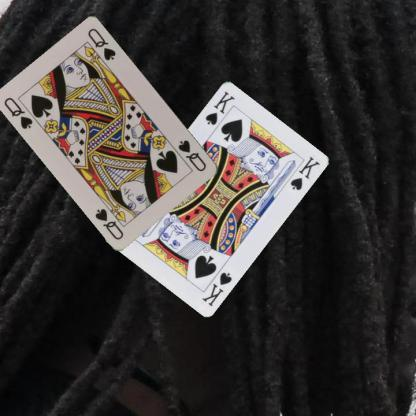Ks: (202, 88, 236, 126), (199, 269, 233, 307)
Qs: (176, 137, 208, 173), (2, 94, 34, 130)
